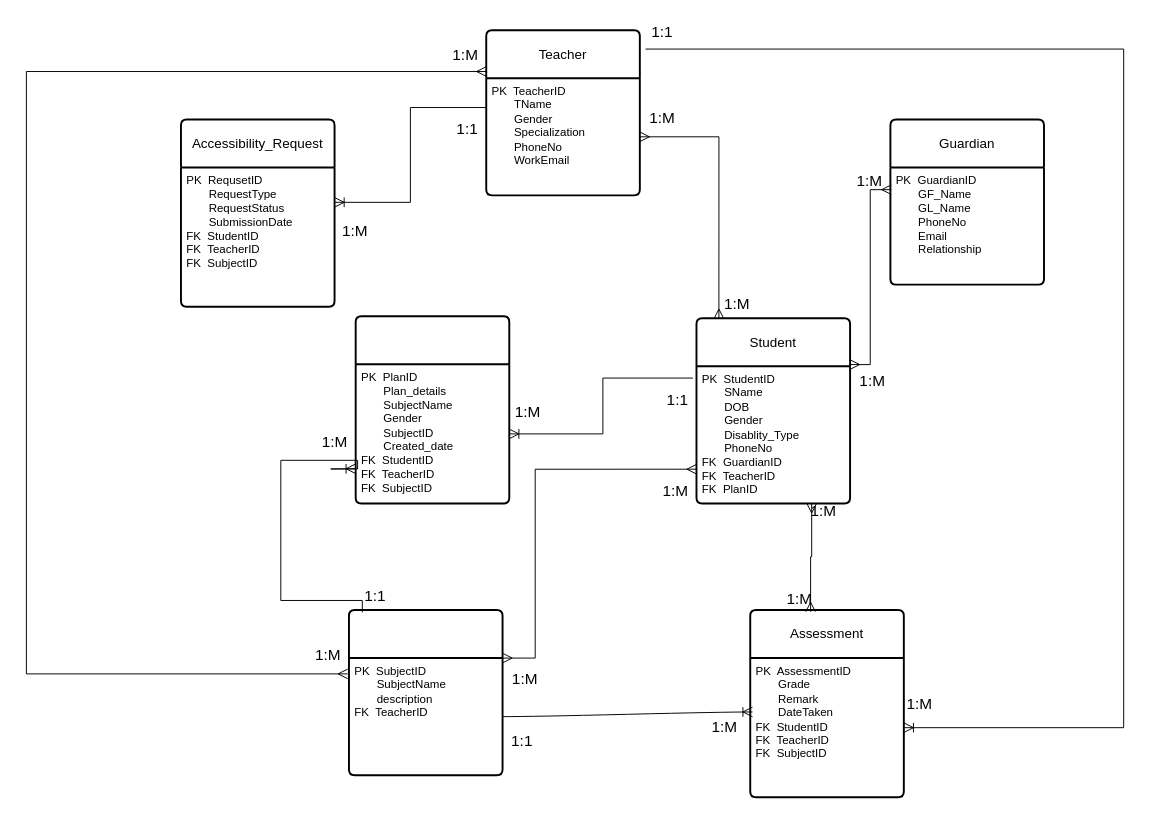
The diagram is 1150 pixels wide and 814 high, and some of its shapes have lost their labels. Each missing label, with the box of its shape:
Learning_plan: (354, 315, 510, 504)
Subjects: (348, 609, 503, 776)
